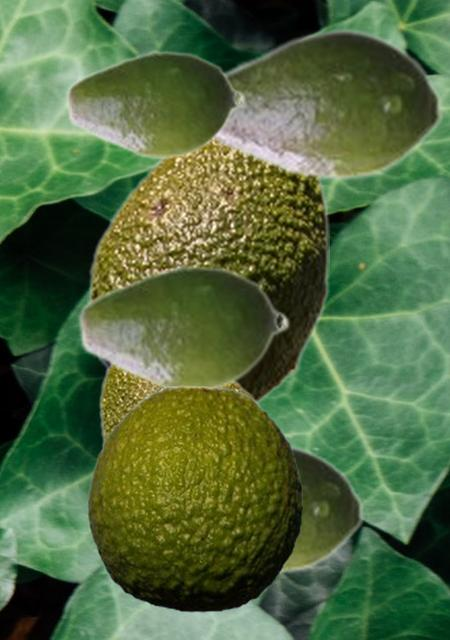avocado: (87, 142, 328, 404), (87, 385, 301, 611), (211, 27, 443, 181), (76, 262, 290, 388), (64, 48, 246, 160), (98, 365, 259, 446), (280, 443, 364, 574)
